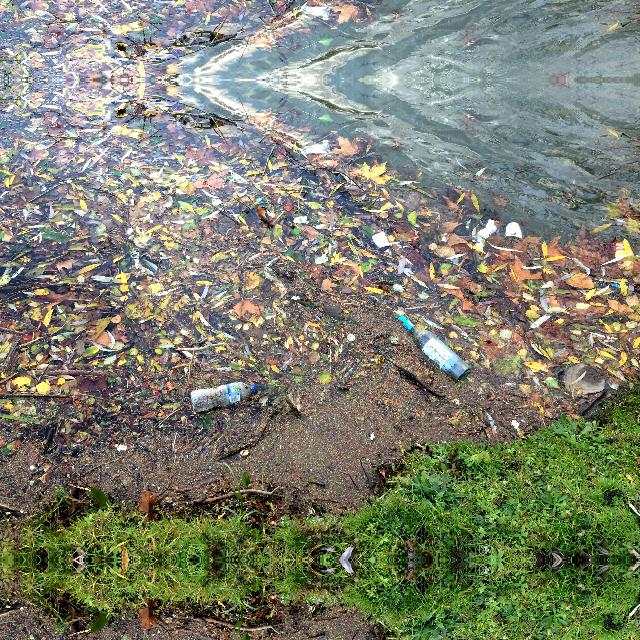Glass: (394, 312, 476, 381)
Plastic: (188, 376, 264, 416), (613, 235, 635, 262), (502, 220, 524, 247)
